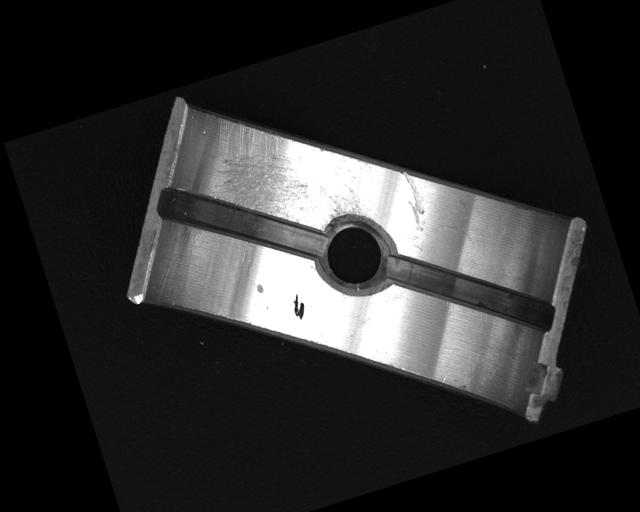blot: (289, 291, 310, 322)
bruise: (253, 280, 266, 296)
gap: (380, 215, 558, 370), (152, 151, 325, 295)
hole: (306, 207, 402, 302)
nick: (396, 167, 433, 233)
scratch: (201, 81, 370, 255)
